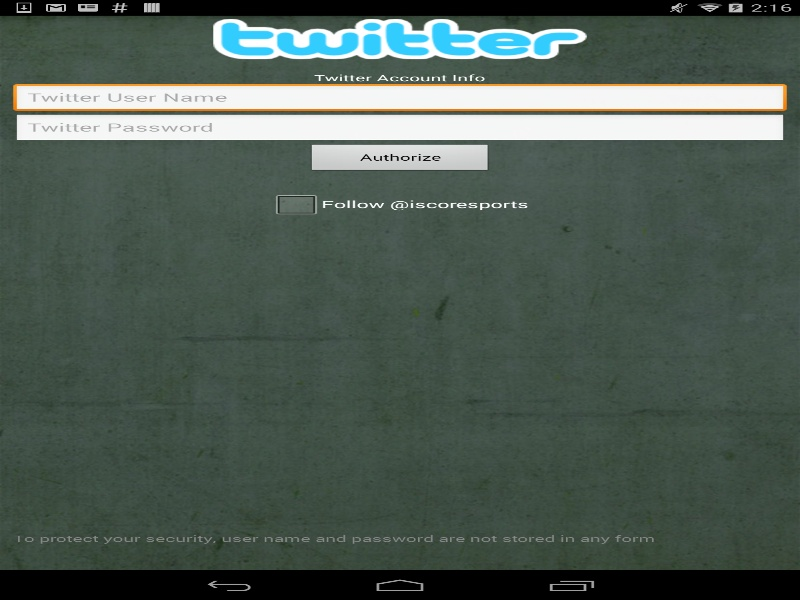Button: (306, 143, 493, 173)
Input: (13, 83, 786, 113), (13, 113, 786, 143)
